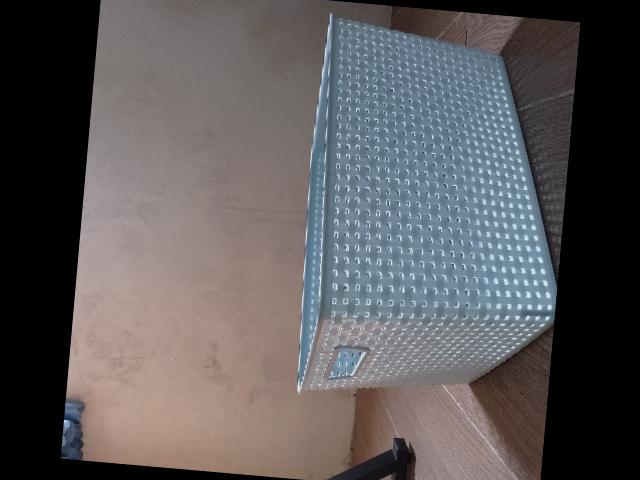cart: (297, 10, 557, 393)
